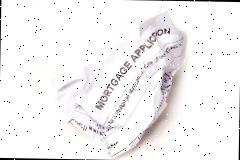paper: (50, 7, 188, 159)
